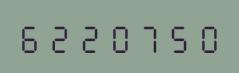five: (162, 20, 190, 53)
seven: (133, 20, 161, 53)
six: (17, 20, 45, 53)
two: (46, 20, 74, 53), (75, 20, 103, 53)
zero: (104, 20, 132, 53), (191, 20, 219, 53)
